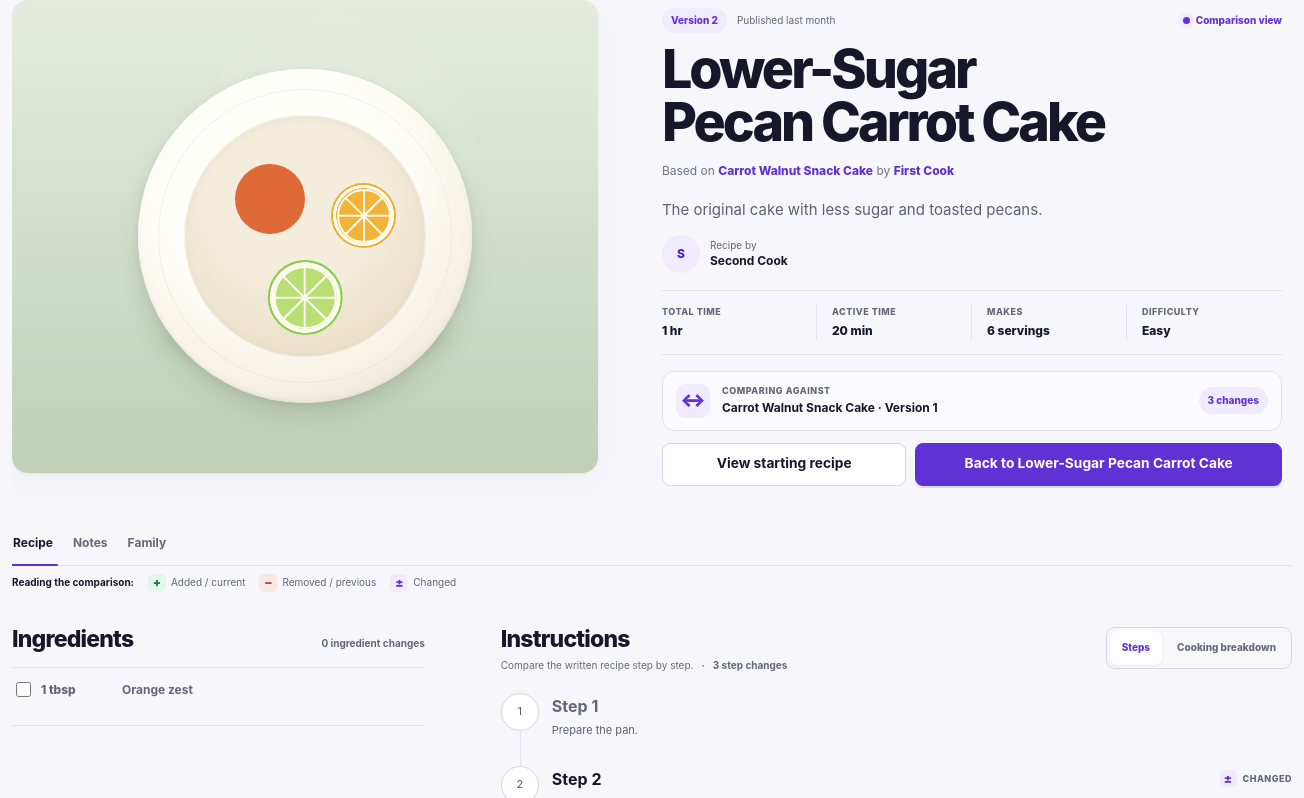
it: RecipeDiffView instruction integration › renders the full instruction sequence and version-specific actions without the old audit section
Expected: the text "Prepare the pan." is shown, [552,723,638,737]
Click the tab "Cooking breakdown".
click(1227, 648)  # box [1165,631,1288,665]
(page scrolled)
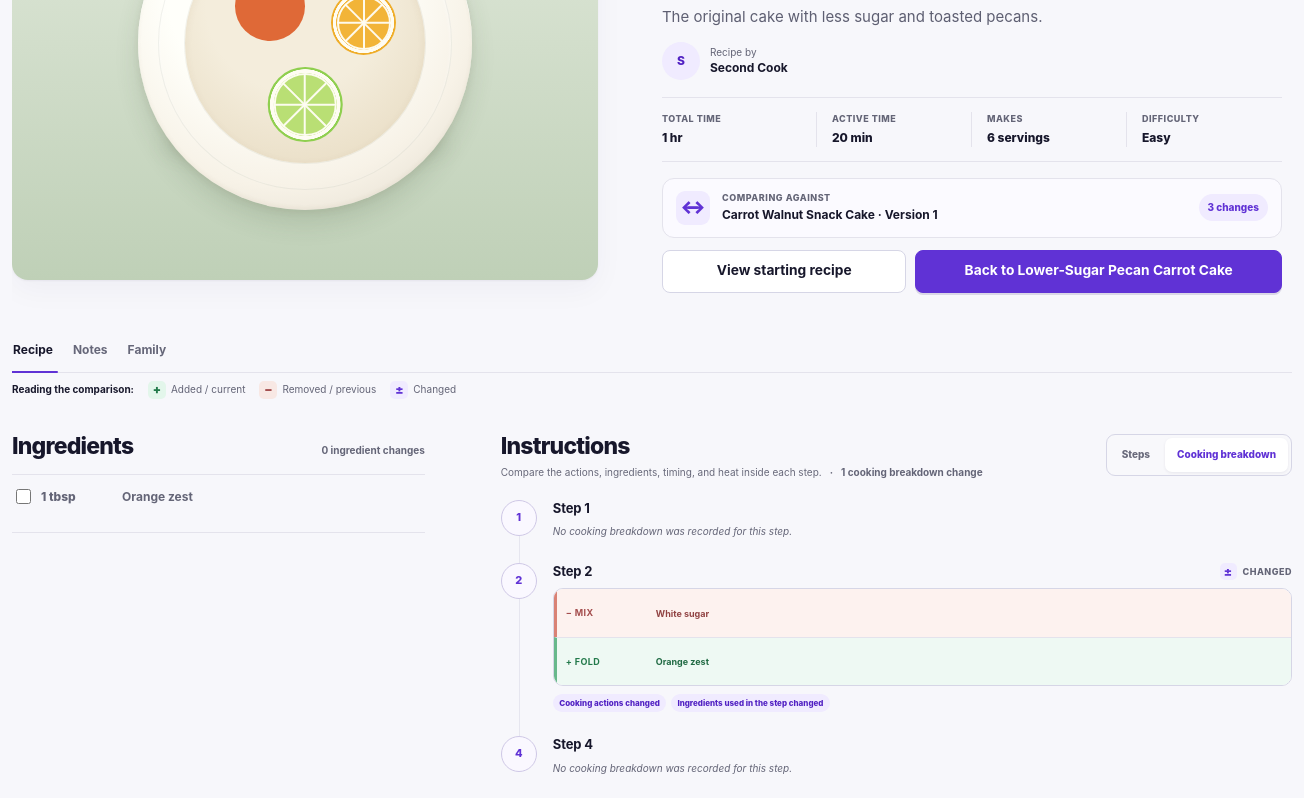
Result: the list item "Cooking actions changed" is shown at [553,694,666,712]
